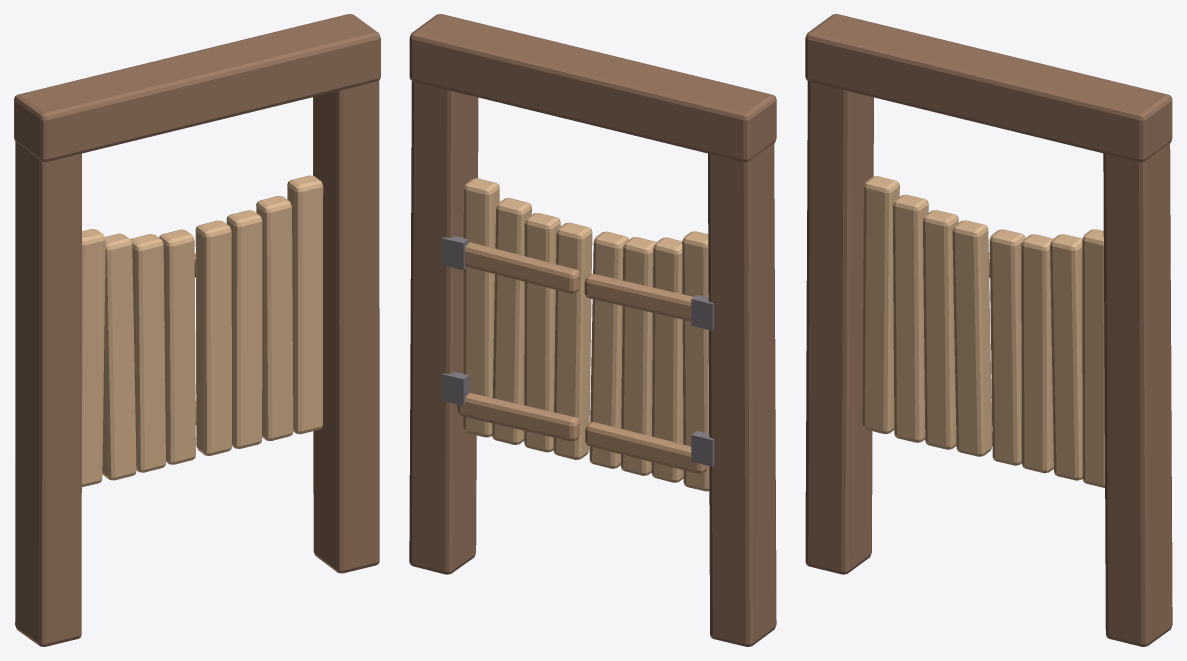
File: Kit_SaloonDoor.fbx
The picture shows the model from 3 angles, left to right: view 1: azimuth 30°, elevation 25°; view 2: azimuth 150°, elevation 25°; view 3: azimuth 330°, elevation 25°; orthographic projection.
Visible parts, largest first — view 1: Kit_SaloonDoor; view 2: Kit_SaloonDoor; view 3: Kit_SaloonDoor.
Part boxes in pixels (left/top/right/bottom): Kit_SaloonDoor: left=14, top=14, right=380, bottom=646; Kit_SaloonDoor: left=409, top=14, right=776, bottom=646; Kit_SaloonDoor: left=805, top=14, right=1172, bottom=646.
Size of the model in its own units: 1.61 by 2.4 by 0.2525.
